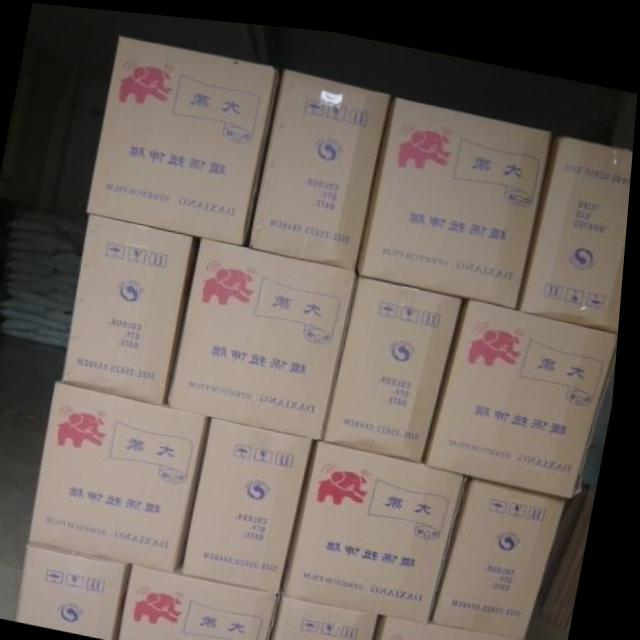box: (90, 34, 284, 243), (364, 88, 551, 296), (172, 232, 360, 433), (433, 290, 621, 487), (37, 381, 215, 568), (293, 434, 473, 611), (253, 64, 393, 261), (332, 268, 466, 451), (68, 212, 196, 401), (188, 414, 320, 585), (441, 466, 574, 629), (523, 124, 634, 317), (127, 561, 286, 640), (25, 541, 134, 634), (280, 587, 387, 640), (387, 605, 534, 640)
